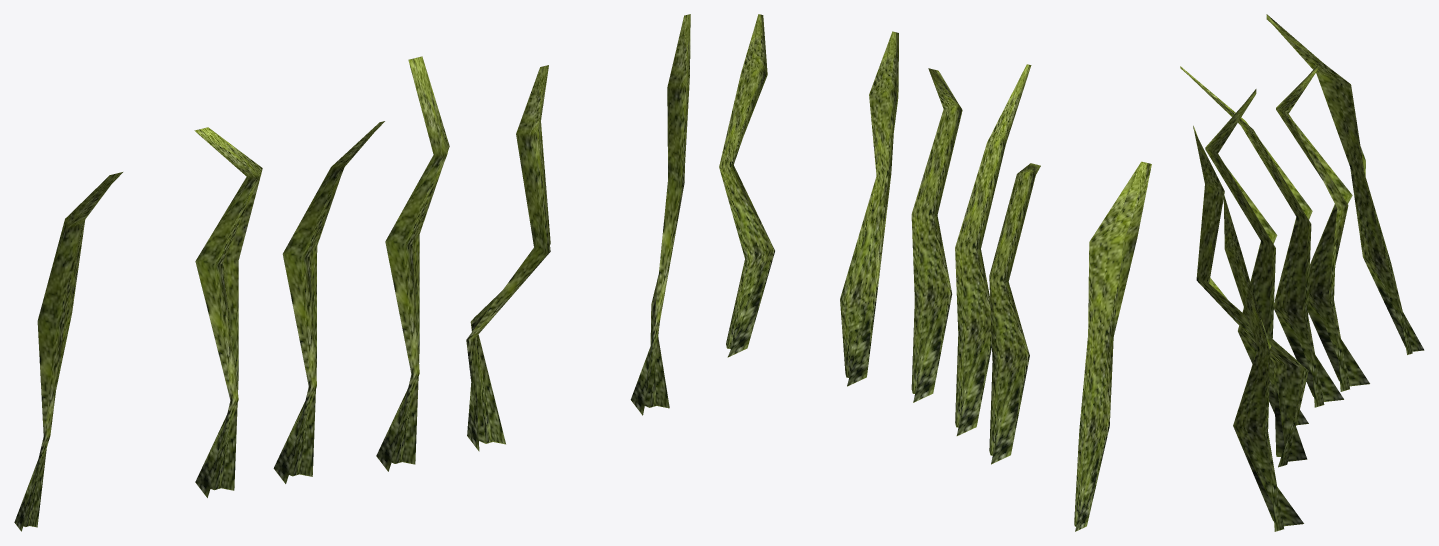
Rendered from plants2.fbx.
3 renders of one model, left to right at view 1: azimuth 30°, elevation 25°; view 2: azimuth 150°, elevation 25°; view 3: azimuth 270°, elevation 25°, orthographic. The views are drawn at different scales.
Parts seen in each view (by area): view 1: pPlane7, pPlane5, pPlane3, pPlane2, pPlane6, pPlane1, pPlane4; view 2: pPlane6, pPlane2, pPlane3, pPlane7, pPlane1, pPlane5, pPlane4; view 3: pPlane1, pPlane6, pPlane2, pPlane7, pPlane3, pPlane4, pPlane5.
Part boxes in pixels (left/top/right/bottom): pPlane7: left=194, top=127, right=262, bottom=497; pPlane5: left=376, top=56, right=448, bottom=471; pPlane3: left=466, top=65, right=550, bottom=451; pPlane2: left=273, top=121, right=384, bottom=483; pPlane6: left=14, top=172, right=122, bottom=531; pPlane1: left=630, top=14, right=690, bottom=415; pPlane4: left=389, top=56, right=449, bottom=469; pPlane6: left=1074, top=161, right=1151, bottom=531; pPlane2: left=955, top=64, right=1031, bottom=435; pPlane3: left=840, top=31, right=898, bottom=386; pPlane7: left=989, top=163, right=1040, bottom=464; pPlane1: left=719, top=14, right=774, bottom=357; pPlane5: left=912, top=76, right=961, bottom=402; pPlane4: left=911, top=68, right=962, bottom=392; pPlane1: left=1223, top=192, right=1303, bottom=531; pPlane6: left=1266, top=14, right=1424, bottom=354; pPlane2: left=1180, top=66, right=1343, bottom=407; pPlane7: left=1276, top=65, right=1369, bottom=391; pPlane3: left=1193, top=125, right=1308, bottom=467; pPlane4: left=1205, top=93, right=1308, bottom=425; pPlane5: left=1205, top=89, right=1275, bottom=361.
Size of the model in its own units: 15.55 by 11.86 by 7.02.
